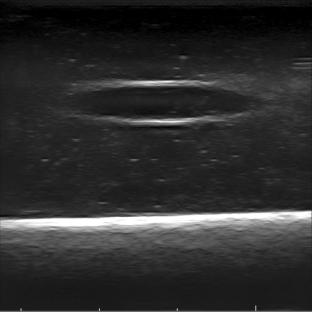vessel: (68, 78, 263, 125)
